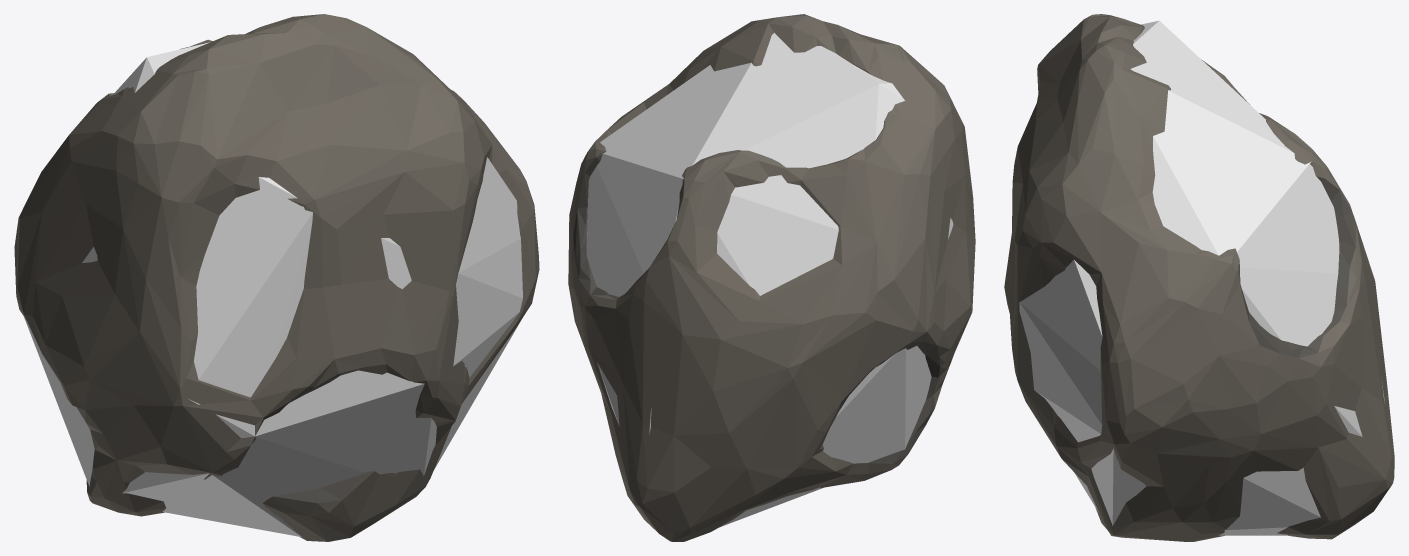
The model's file is SM_Env_Asteroid_Holes_05.fbx.
3 views of the same model, side by side, from view 1: azimuth 30°, elevation 25°; view 2: azimuth 150°, elevation 25°; view 3: azimuth 270°, elevation 25° (orthographic). The views are drawn at different scales.
Visible parts, largest first — view 1: SM_Env_Asteroid_Holes_05_LOD0, SM_Env_Asteroid_Holes_05_ConvexHulls; view 2: SM_Env_Asteroid_Holes_05_LOD0, SM_Env_Asteroid_Holes_05_ConvexHulls; view 3: SM_Env_Asteroid_Holes_05_LOD0, SM_Env_Asteroid_Holes_05_ConvexHulls.
Part boxes in pixels (x1=…): SM_Env_Asteroid_Holes_05_LOD0: x1=14, y1=14, x2=539, y2=541; SM_Env_Asteroid_Holes_05_ConvexHulls: x1=24, y1=42, x2=522, y2=536; SM_Env_Asteroid_Holes_05_LOD0: x1=568, y1=14, x2=975, y2=541; SM_Env_Asteroid_Holes_05_ConvexHulls: x1=586, y1=33, x2=953, y2=526; SM_Env_Asteroid_Holes_05_LOD0: x1=1004, y1=14, x2=1394, y2=541; SM_Env_Asteroid_Holes_05_ConvexHulls: x1=1019, y1=20, x2=1384, y2=535.
Size of the model in its own units: 636 by 756 by 860.
Materials: 1 (1 with a texture image).
